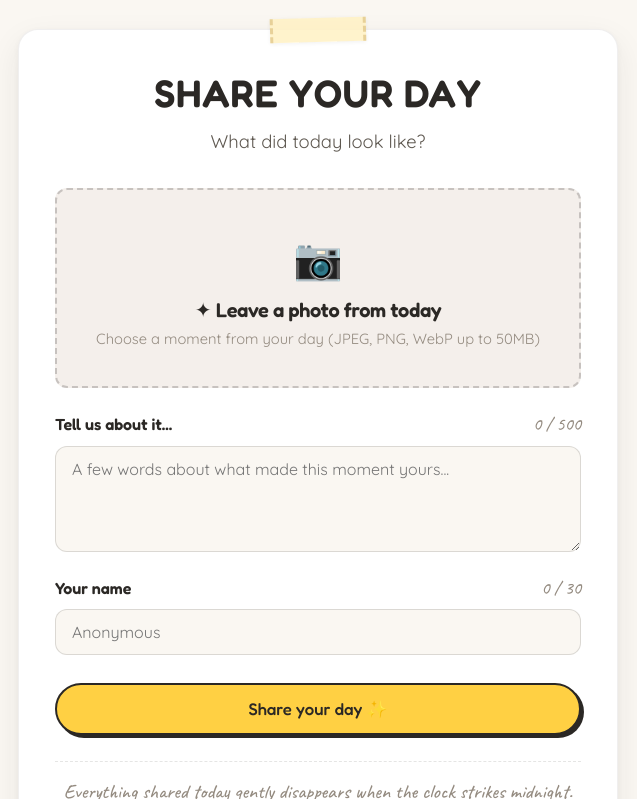
Test: ShareDayPage › handles 409 quota conflict response cleanly
The image size is (637, 799).
Type "Moment that raced with quota" into the text box with placeholder "A few words about what made this moment yours..." at (318, 499), box x1=55 y1=446 x2=581 y2=552
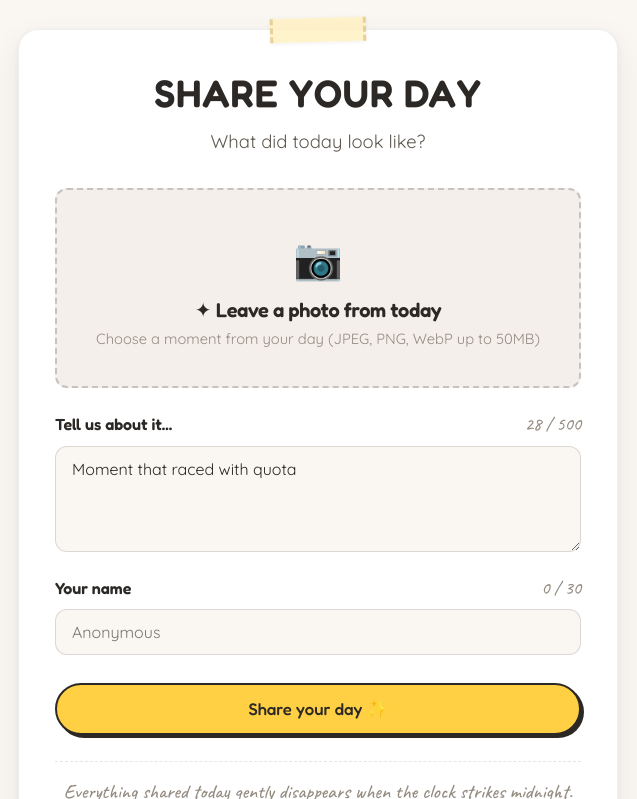
Click the button "Share your day ✨" at (318, 709), box x1=55 y1=683 x2=581 y2=735
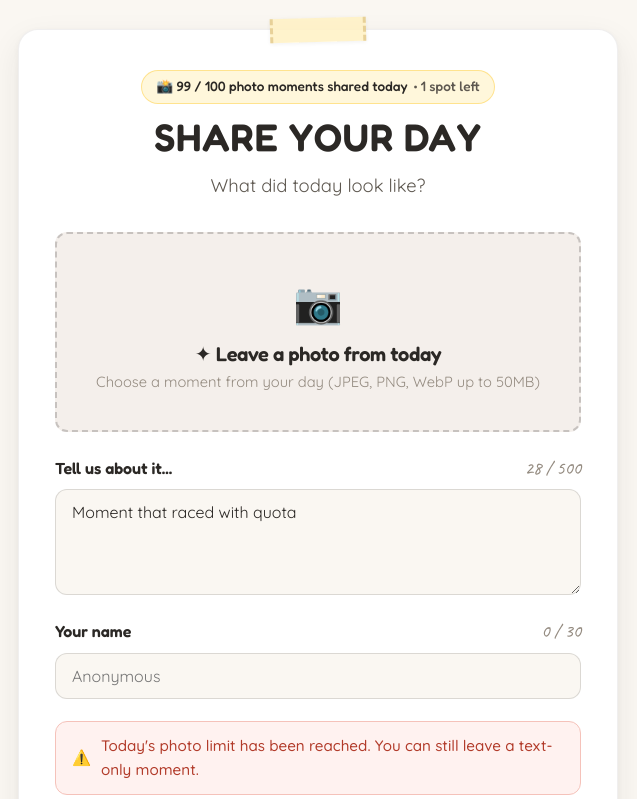
Now the text "Today's photo limit has been reached. You can still leave a text-only moment" is shown, box x1=101 y1=736 x2=552 y2=779
